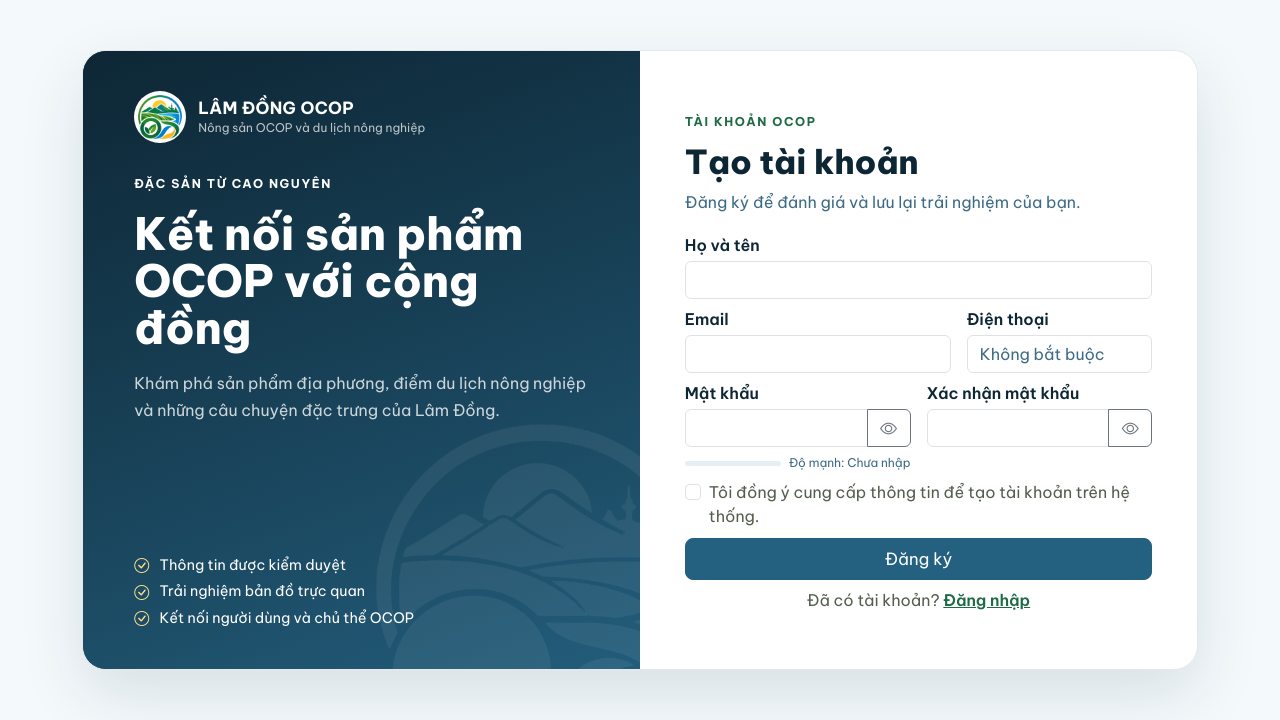
Test: trai nghiem mat khau › hien thi do manh va loi xac nhan ngay khi dang ky
This screenshot has width=1280, height=720.
Type "Matkhau1!" into the password field with id "register-password" at (776, 428), box [685,409,868,447]
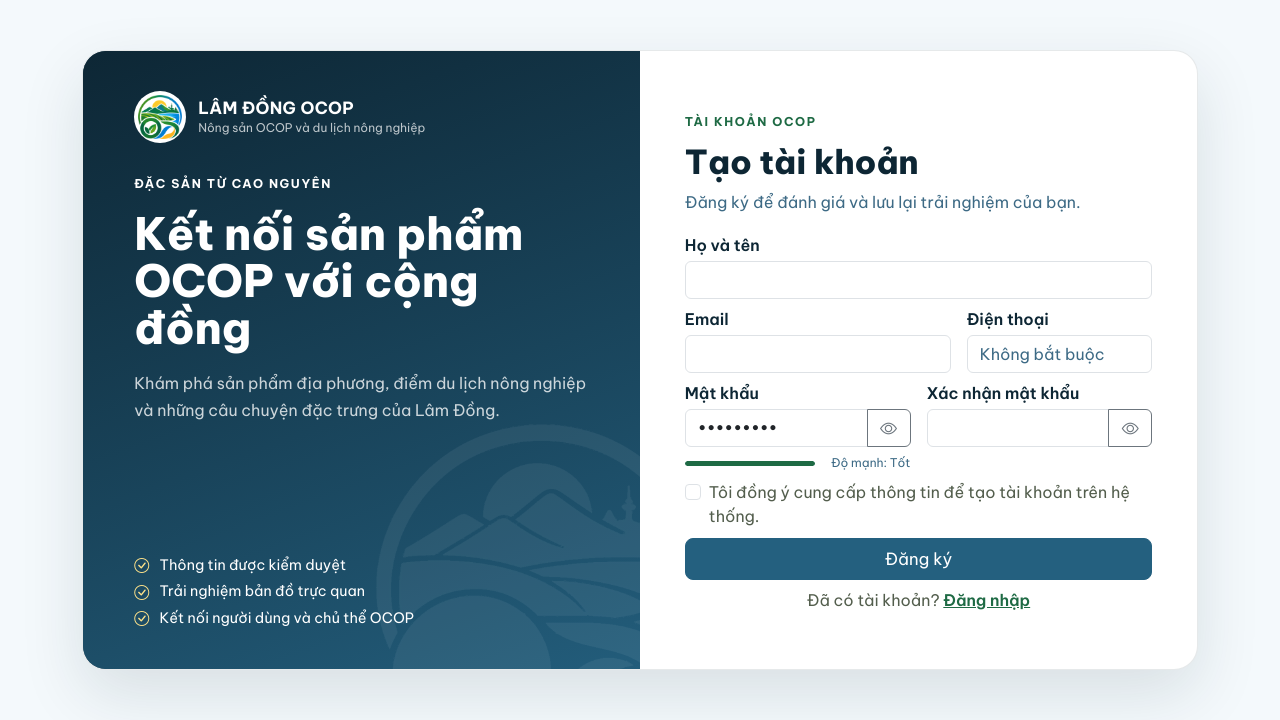
Expected: the element showing "Độ mạnh: Tốt" is shown, [685,454,910,472]
Type "Khongkhop1!" into the password field with id "register-confirmation" at (1018, 428), box [926,409,1109,447]
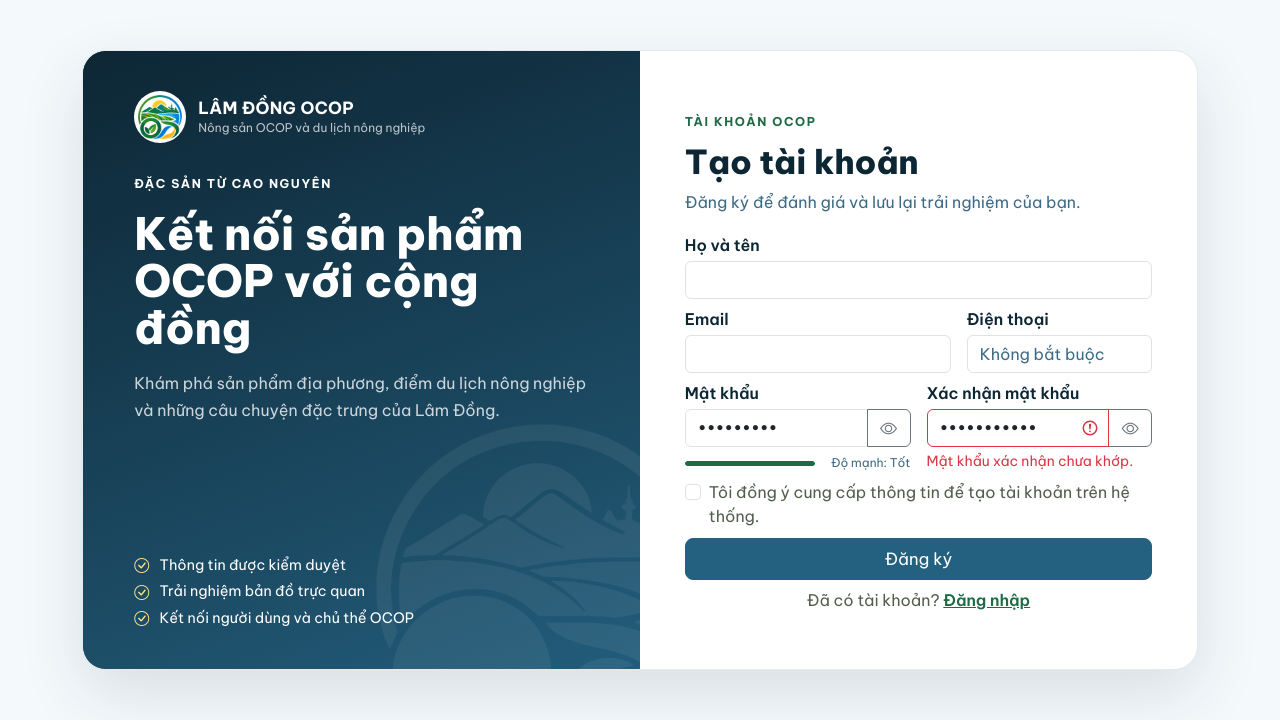
Expected: the text with id "confirmation-feedback" shows "chưa khớp", [926,452,1133,470]
